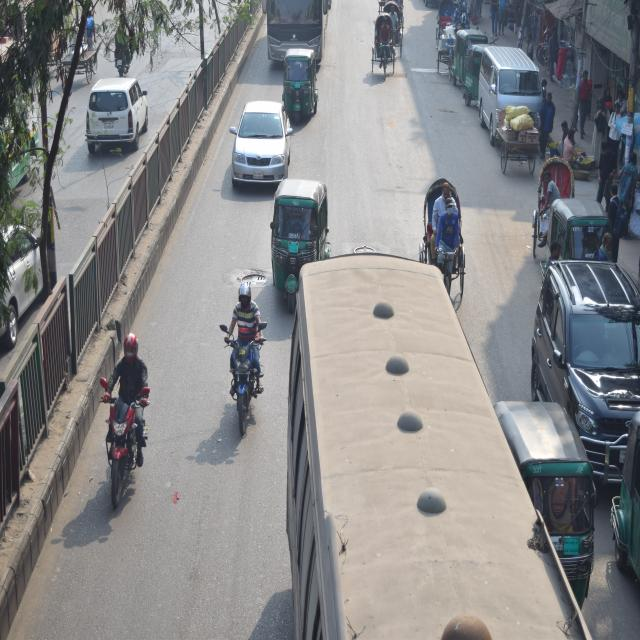bus: (279, 261, 541, 640), (260, 0, 332, 63)
car: (533, 249, 640, 502), (232, 96, 287, 183), (83, 82, 146, 147)
microbus: (476, 44, 546, 148)
motorbike: (94, 389, 143, 519), (218, 325, 264, 444)
